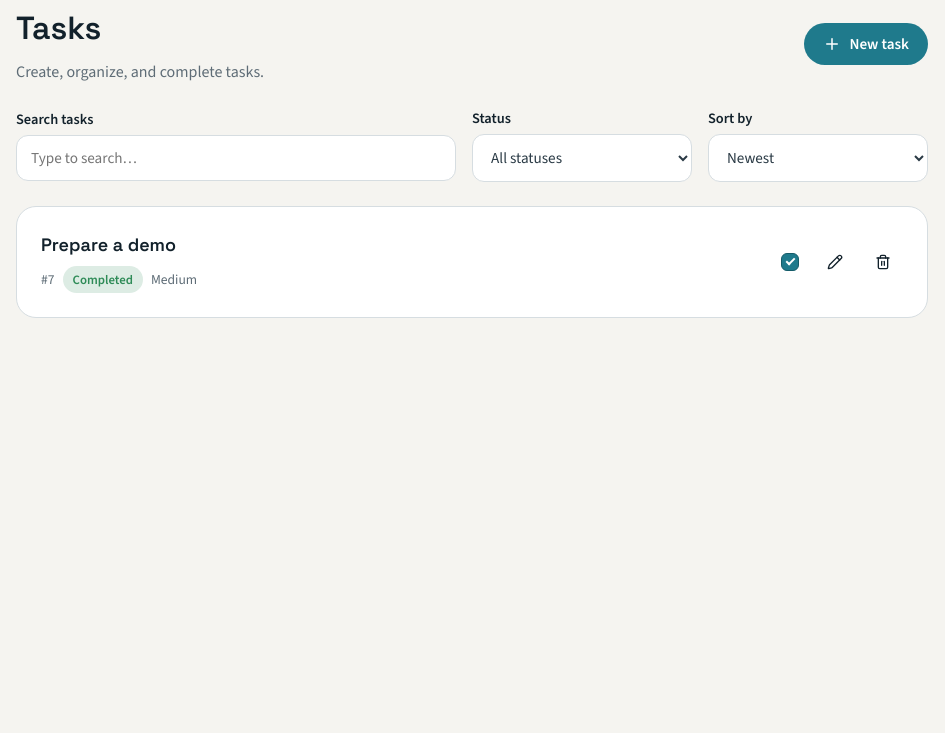
Test case: explains the task leaving the completed filter and restores it under All statuses
This screenshot has width=945, height=733.
Expected: the checkbox is shown, x1=781 y1=253 x2=799 y2=271
Select "Completed" in the dropdown labelled "Status" at [582, 158], box x1=472 y1=134 x2=692 y2=182
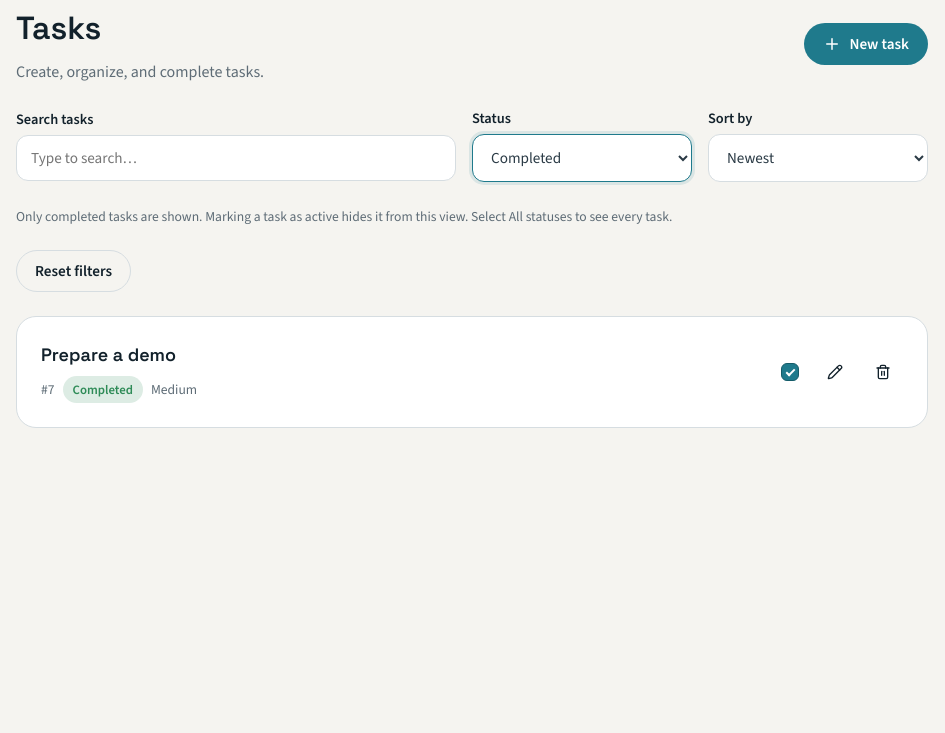
Click the checkbox at [790, 372], box x1=781 y1=363 x2=799 y2=381
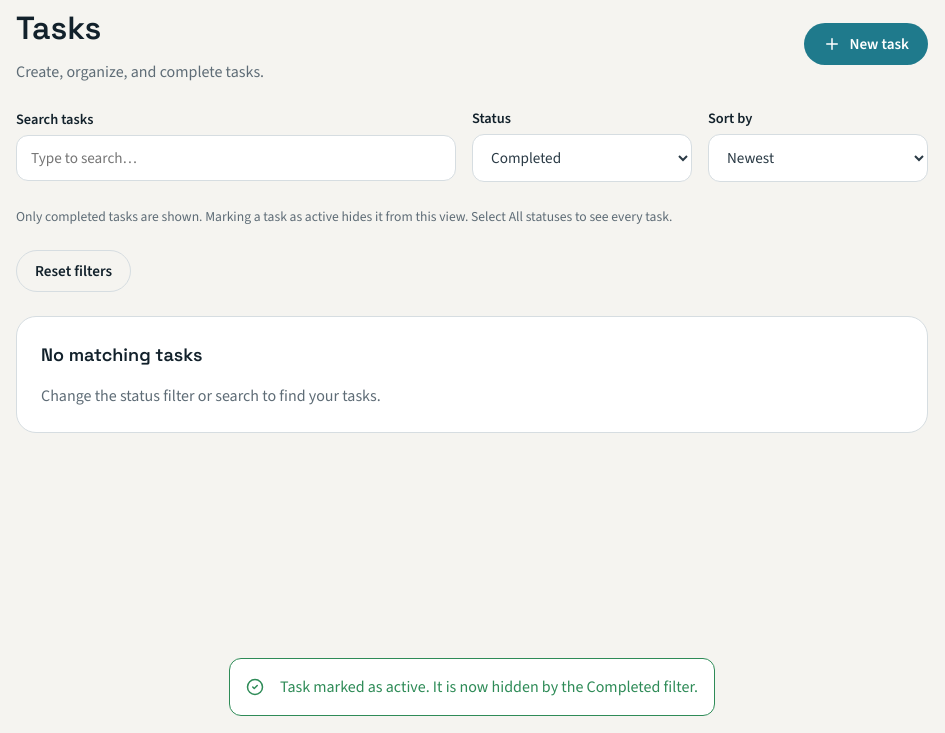
Result: the text "Task marked as active. It is now hidden by the Completed filter." is shown at x1=229 y1=658 x2=715 y2=716
Result: the heading "Prepare a demo" is gone
Select "All statuses" in the dropdown labelled "Status" at [582, 158], box x1=472 y1=134 x2=692 y2=182
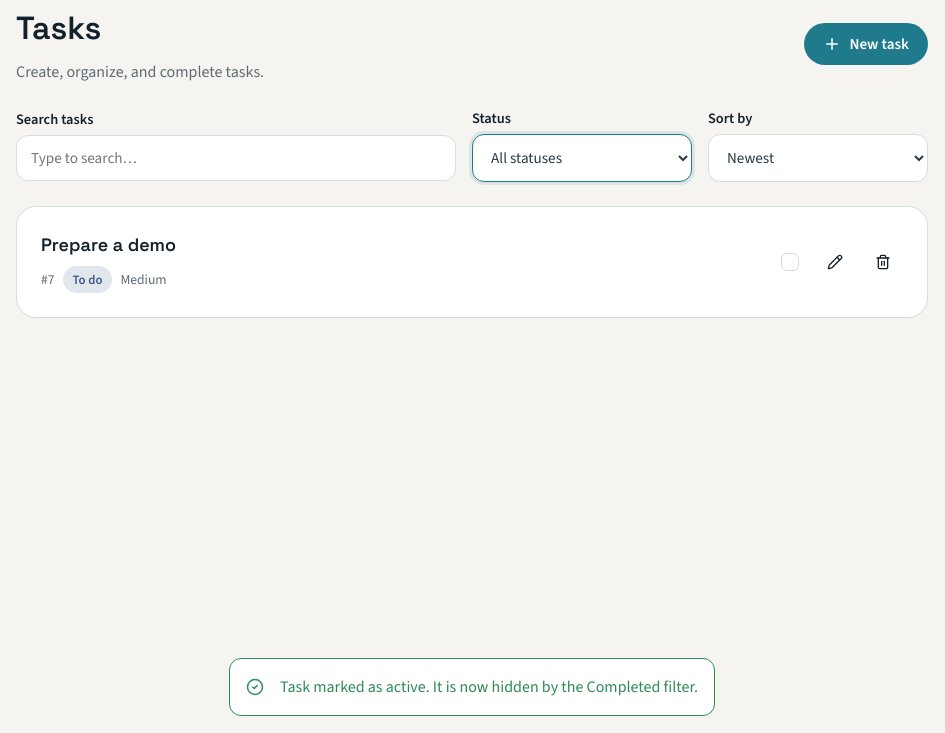
Result: the heading "Prepare a demo" is shown at x1=41 y1=233 x2=176 y2=256
